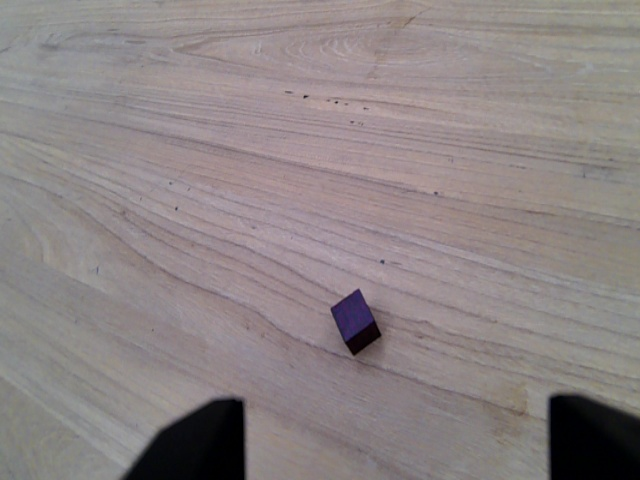brick: (324, 287, 384, 359)
